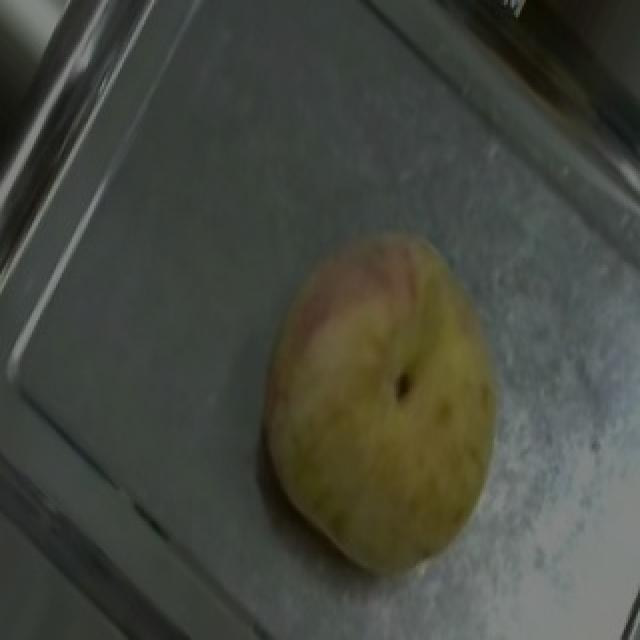Fruit: (226, 186, 548, 578)
